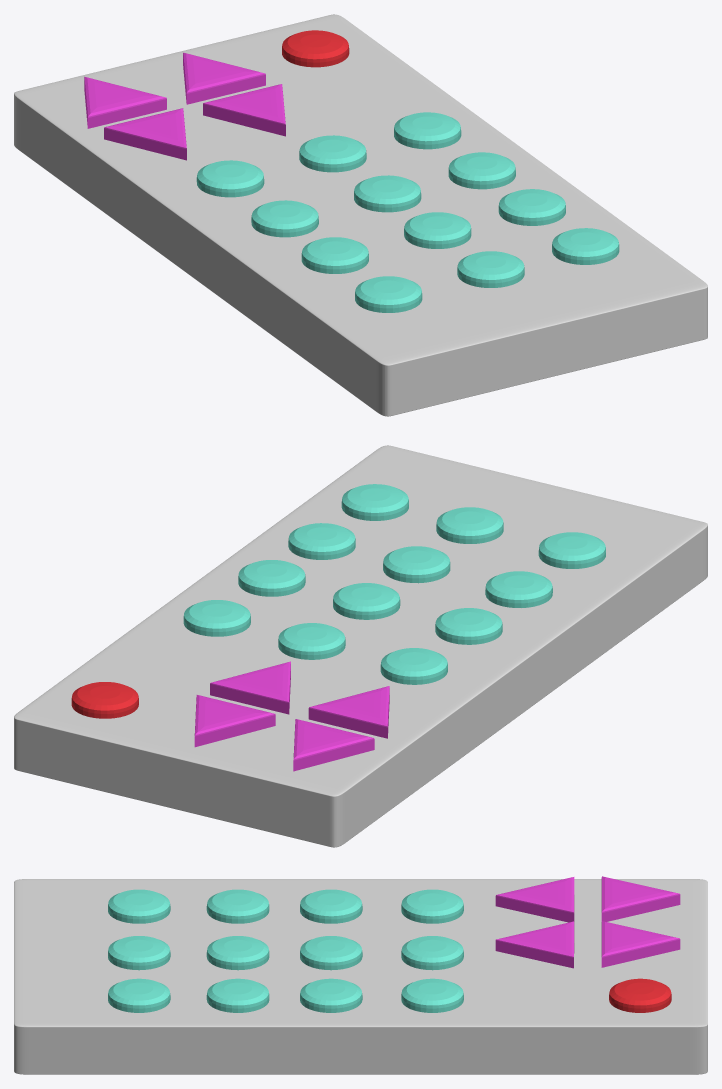
Rendered from remote.fbx.
The picture shows the model from 3 angles, top to bottom: view 1: azimuth 30°, elevation 25°; view 2: azimuth 150°, elevation 25°; view 3: azimuth 270°, elevation 25°; orthographic projection. The views are drawn at different scales.
Parts seen in each view (by area): view 1: Cube, Cube.004, Cube.001, Cube.002, Cube.003, Cylinder.002, Cylinder.004, Cylinder.006, Cylinder.003, Cylinder, Cylinder.001, Cylinder.005 (+6 smaller); view 2: Cube, Cube.004, Cube.001, Cube.003, Cube.002, Cylinder.008, Cylinder.002, Cylinder.006, Cylinder.004, Cylinder.007, Cylinder.001, Cylinder.003 (+6 smaller); view 3: Cube, Cube.004, Cube.003, Cube.001, Cube.002, Cylinder.009, Cylinder.003, Cylinder.004, Cylinder.010, Cylinder.007, Cylinder, Cylinder.001 (+6 smaller).
Part boxes in pixels (x1,y1,x2,y2): Cube: [14, 14, 707, 416]; Cube.004: [203, 84, 285, 136]; Cube.001: [104, 108, 186, 160]; Cube.002: [84, 76, 166, 128]; Cube.003: [183, 52, 265, 104]; Cylinder.002: [299, 135, 366, 172]; Cylinder.004: [251, 200, 318, 237]; Cylinder.006: [448, 152, 515, 189]; Cylinder.003: [196, 160, 264, 197]; Cylinder: [282, 30, 349, 67]; Cylinder.001: [394, 112, 461, 149]; Cylinder.005: [354, 175, 421, 212]; Cube: [14, 445, 707, 847]; Cube.004: [210, 661, 290, 714]; Cube.001: [308, 686, 389, 738]; Cube.003: [194, 695, 275, 747]; Cube.002: [293, 719, 374, 771]; Cylinder.008: [383, 546, 450, 583]; Cylinder.002: [278, 623, 345, 659]; Cylinder.006: [238, 560, 305, 596]; Cylinder.004: [435, 608, 502, 644]; Cylinder.007: [288, 523, 355, 559]; Cylinder.001: [183, 600, 250, 636]; Cylinder.003: [380, 648, 447, 684]; Cube: [14, 879, 707, 1074]; Cube.004: [495, 921, 574, 968]; Cube.003: [601, 921, 680, 967]; Cube.001: [495, 877, 574, 922]; Cube.002: [601, 876, 680, 921]; Cylinder.009: [206, 889, 269, 923]; Cylinder.003: [401, 889, 463, 923]; Cylinder.004: [300, 889, 362, 923]; Cylinder.010: [108, 889, 170, 923]; Cylinder.007: [206, 978, 269, 1012]; Cylinder: [609, 978, 671, 1012]; Cylinder.001: [401, 978, 463, 1012].
Size of the model in its own units: 222 by 43.28 by 440.
